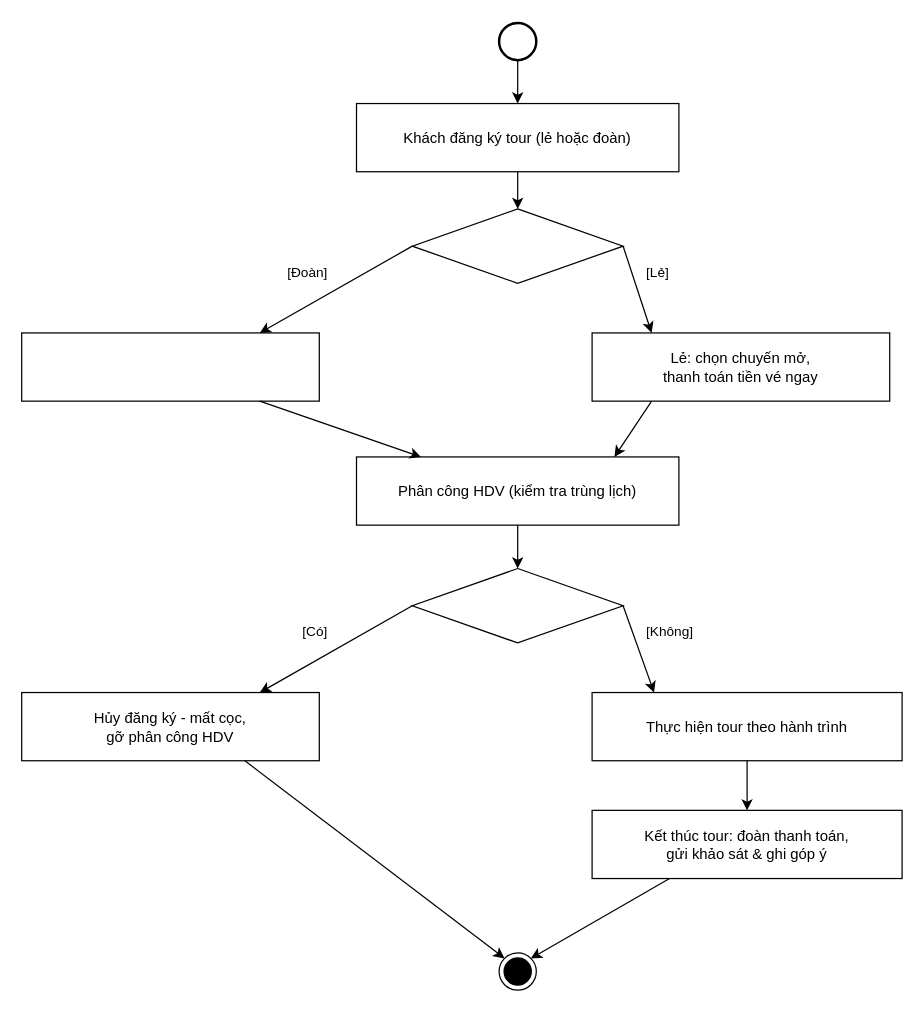
Some shapes in this 924 by 1012 pixel diagram are drawn without their labels. The shapes that lost their labels are listed below. From the top down, each one's centre as x and y in pixels, then its label:
At pixel 517 245: "Số người > 12?".
At pixel 169 366: "Đoàn: phiếu đăng ký, cọc, danh sách bảo hiểm".
At pixel 517 605: "Đoàn không đi?".
